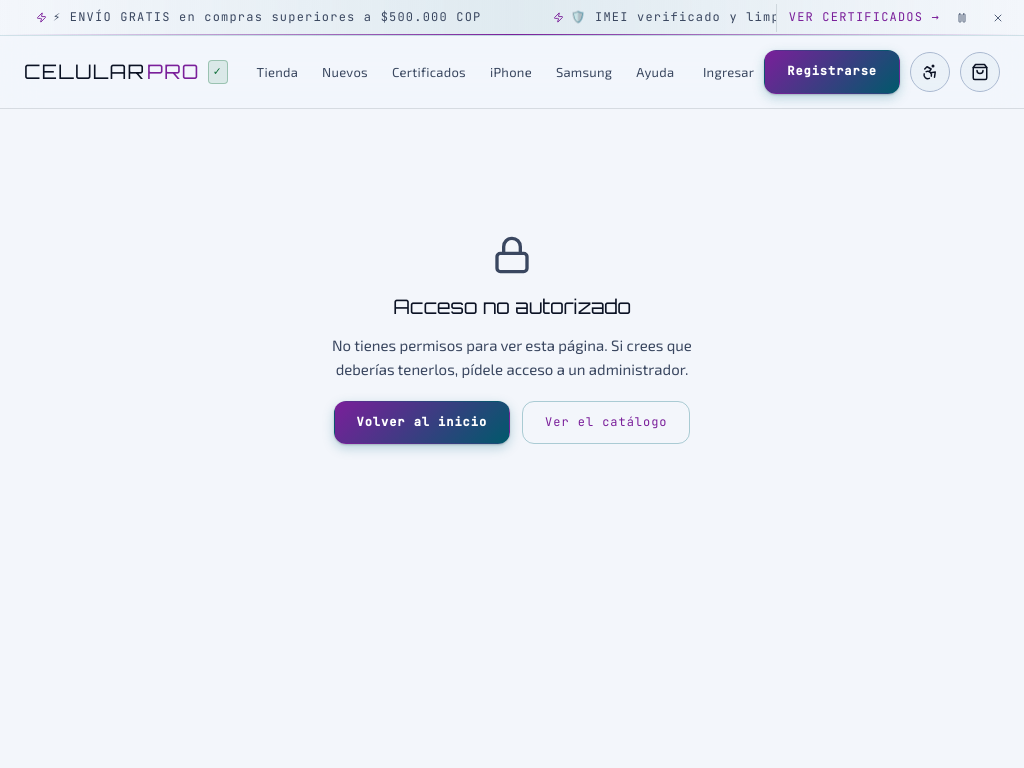
Scenario: Panel "Pantalla y accesibilidad" dentro de la tienda › se abre desde la barra y ofrece tema, tamaño y movimiento
The width and height of the screenshot is (1024, 768).
Click the button named "Pantalla y accesibilidad" at (930, 72), box [910,52,950,92]
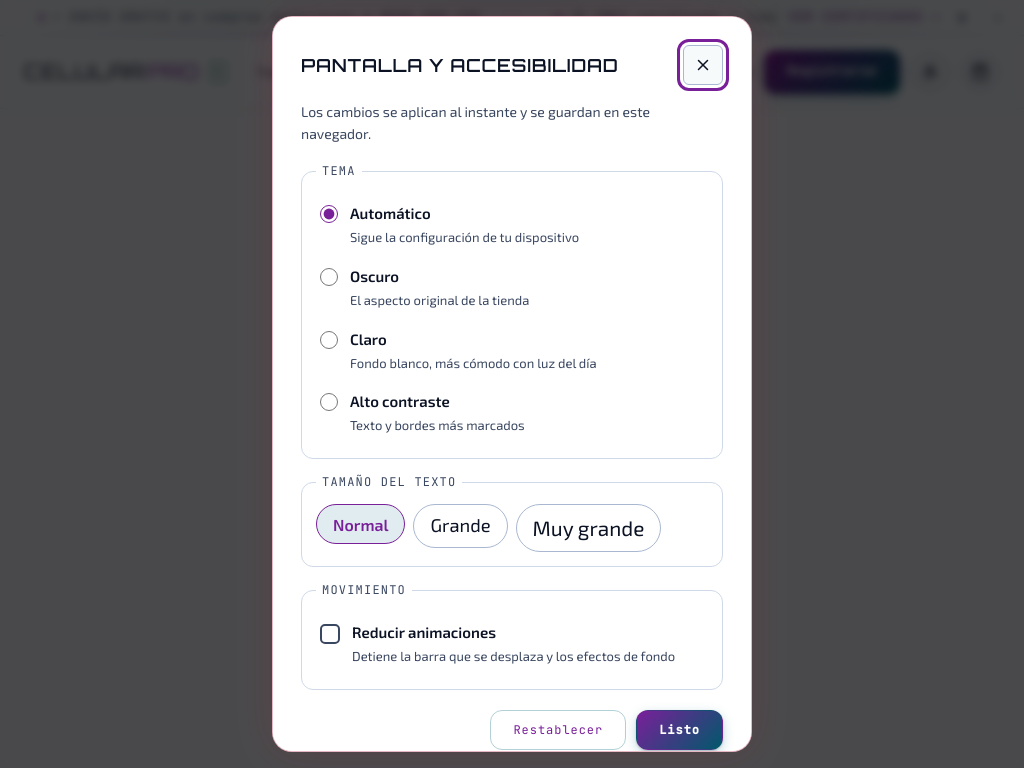
Result: the dialog "Pantalla y accesibilidad" is shown at [272,16,752,752]
Result: the radio button labelled "Automático Sigue la configuración de tu dispositivo" is shown at [320,205,338,223]
Result: the radio button labelled "Oscuro El aspecto original de la tienda" is shown at [320,268,338,286]
